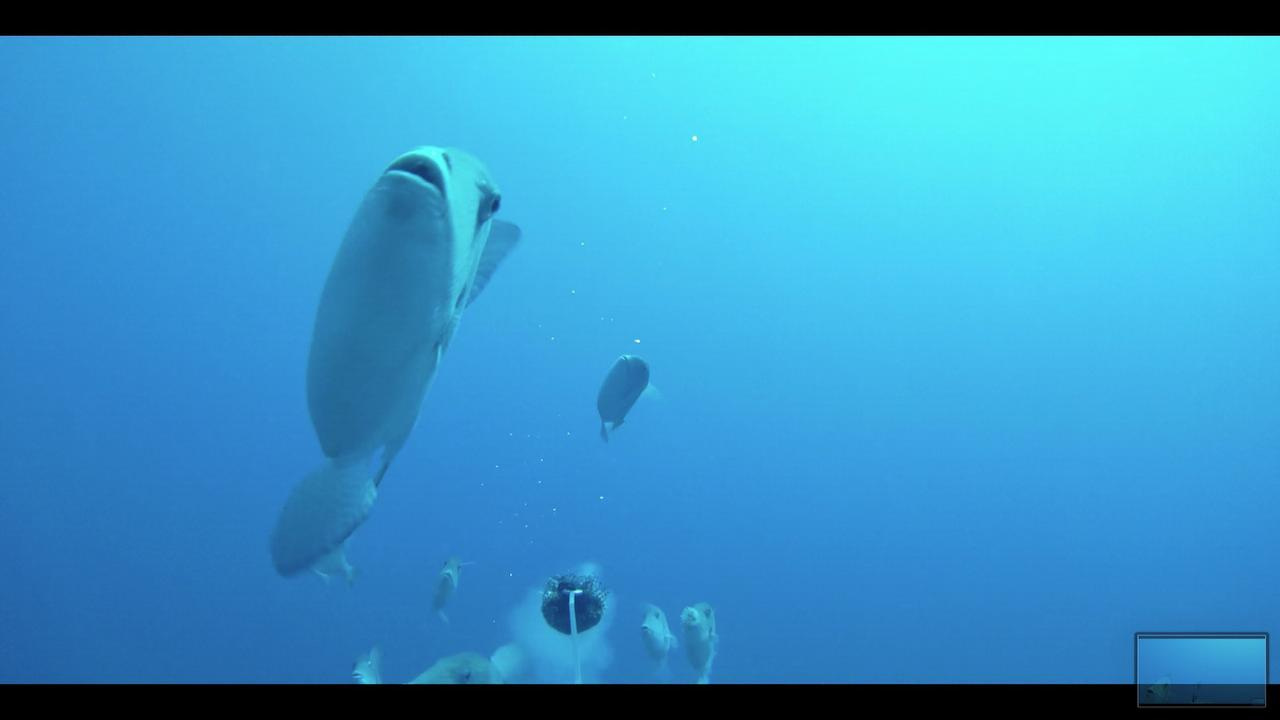balistes: (270, 136, 530, 584), (584, 341, 665, 453), (411, 543, 477, 631), (628, 591, 684, 674)
